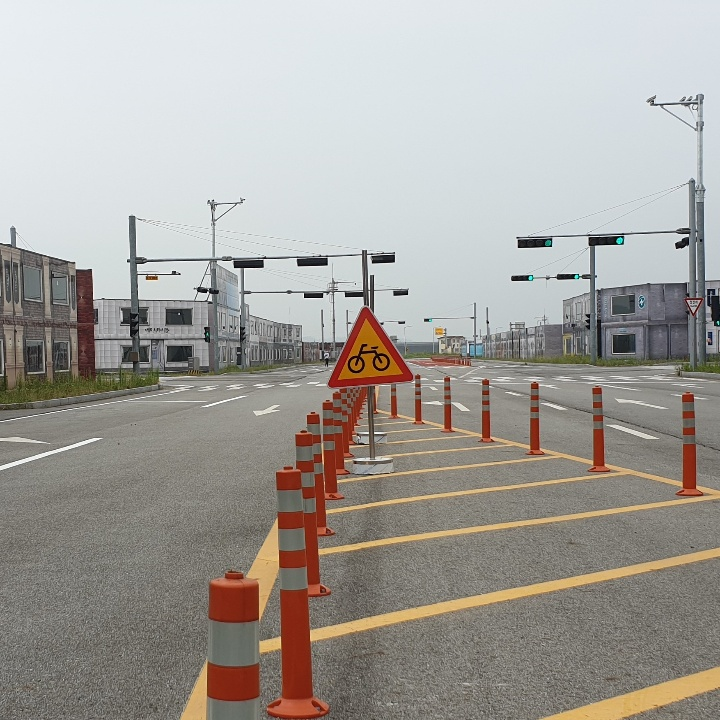bicycle: (330, 302, 414, 383)
